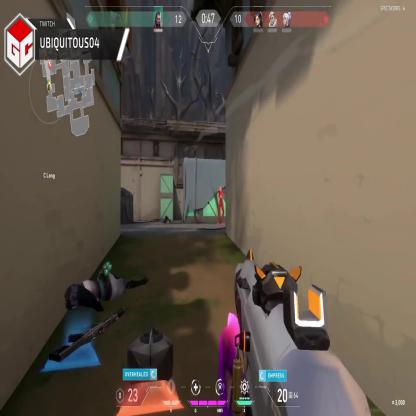enemy: (216, 186, 224, 225)
enemy_head: (219, 186, 222, 193)
